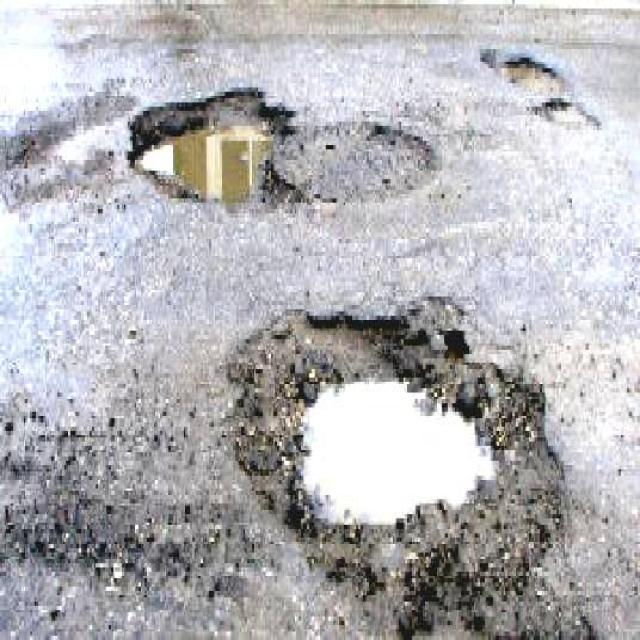pothole: (226, 299, 567, 638), (123, 81, 270, 209), (480, 43, 560, 96), (531, 96, 601, 132)
